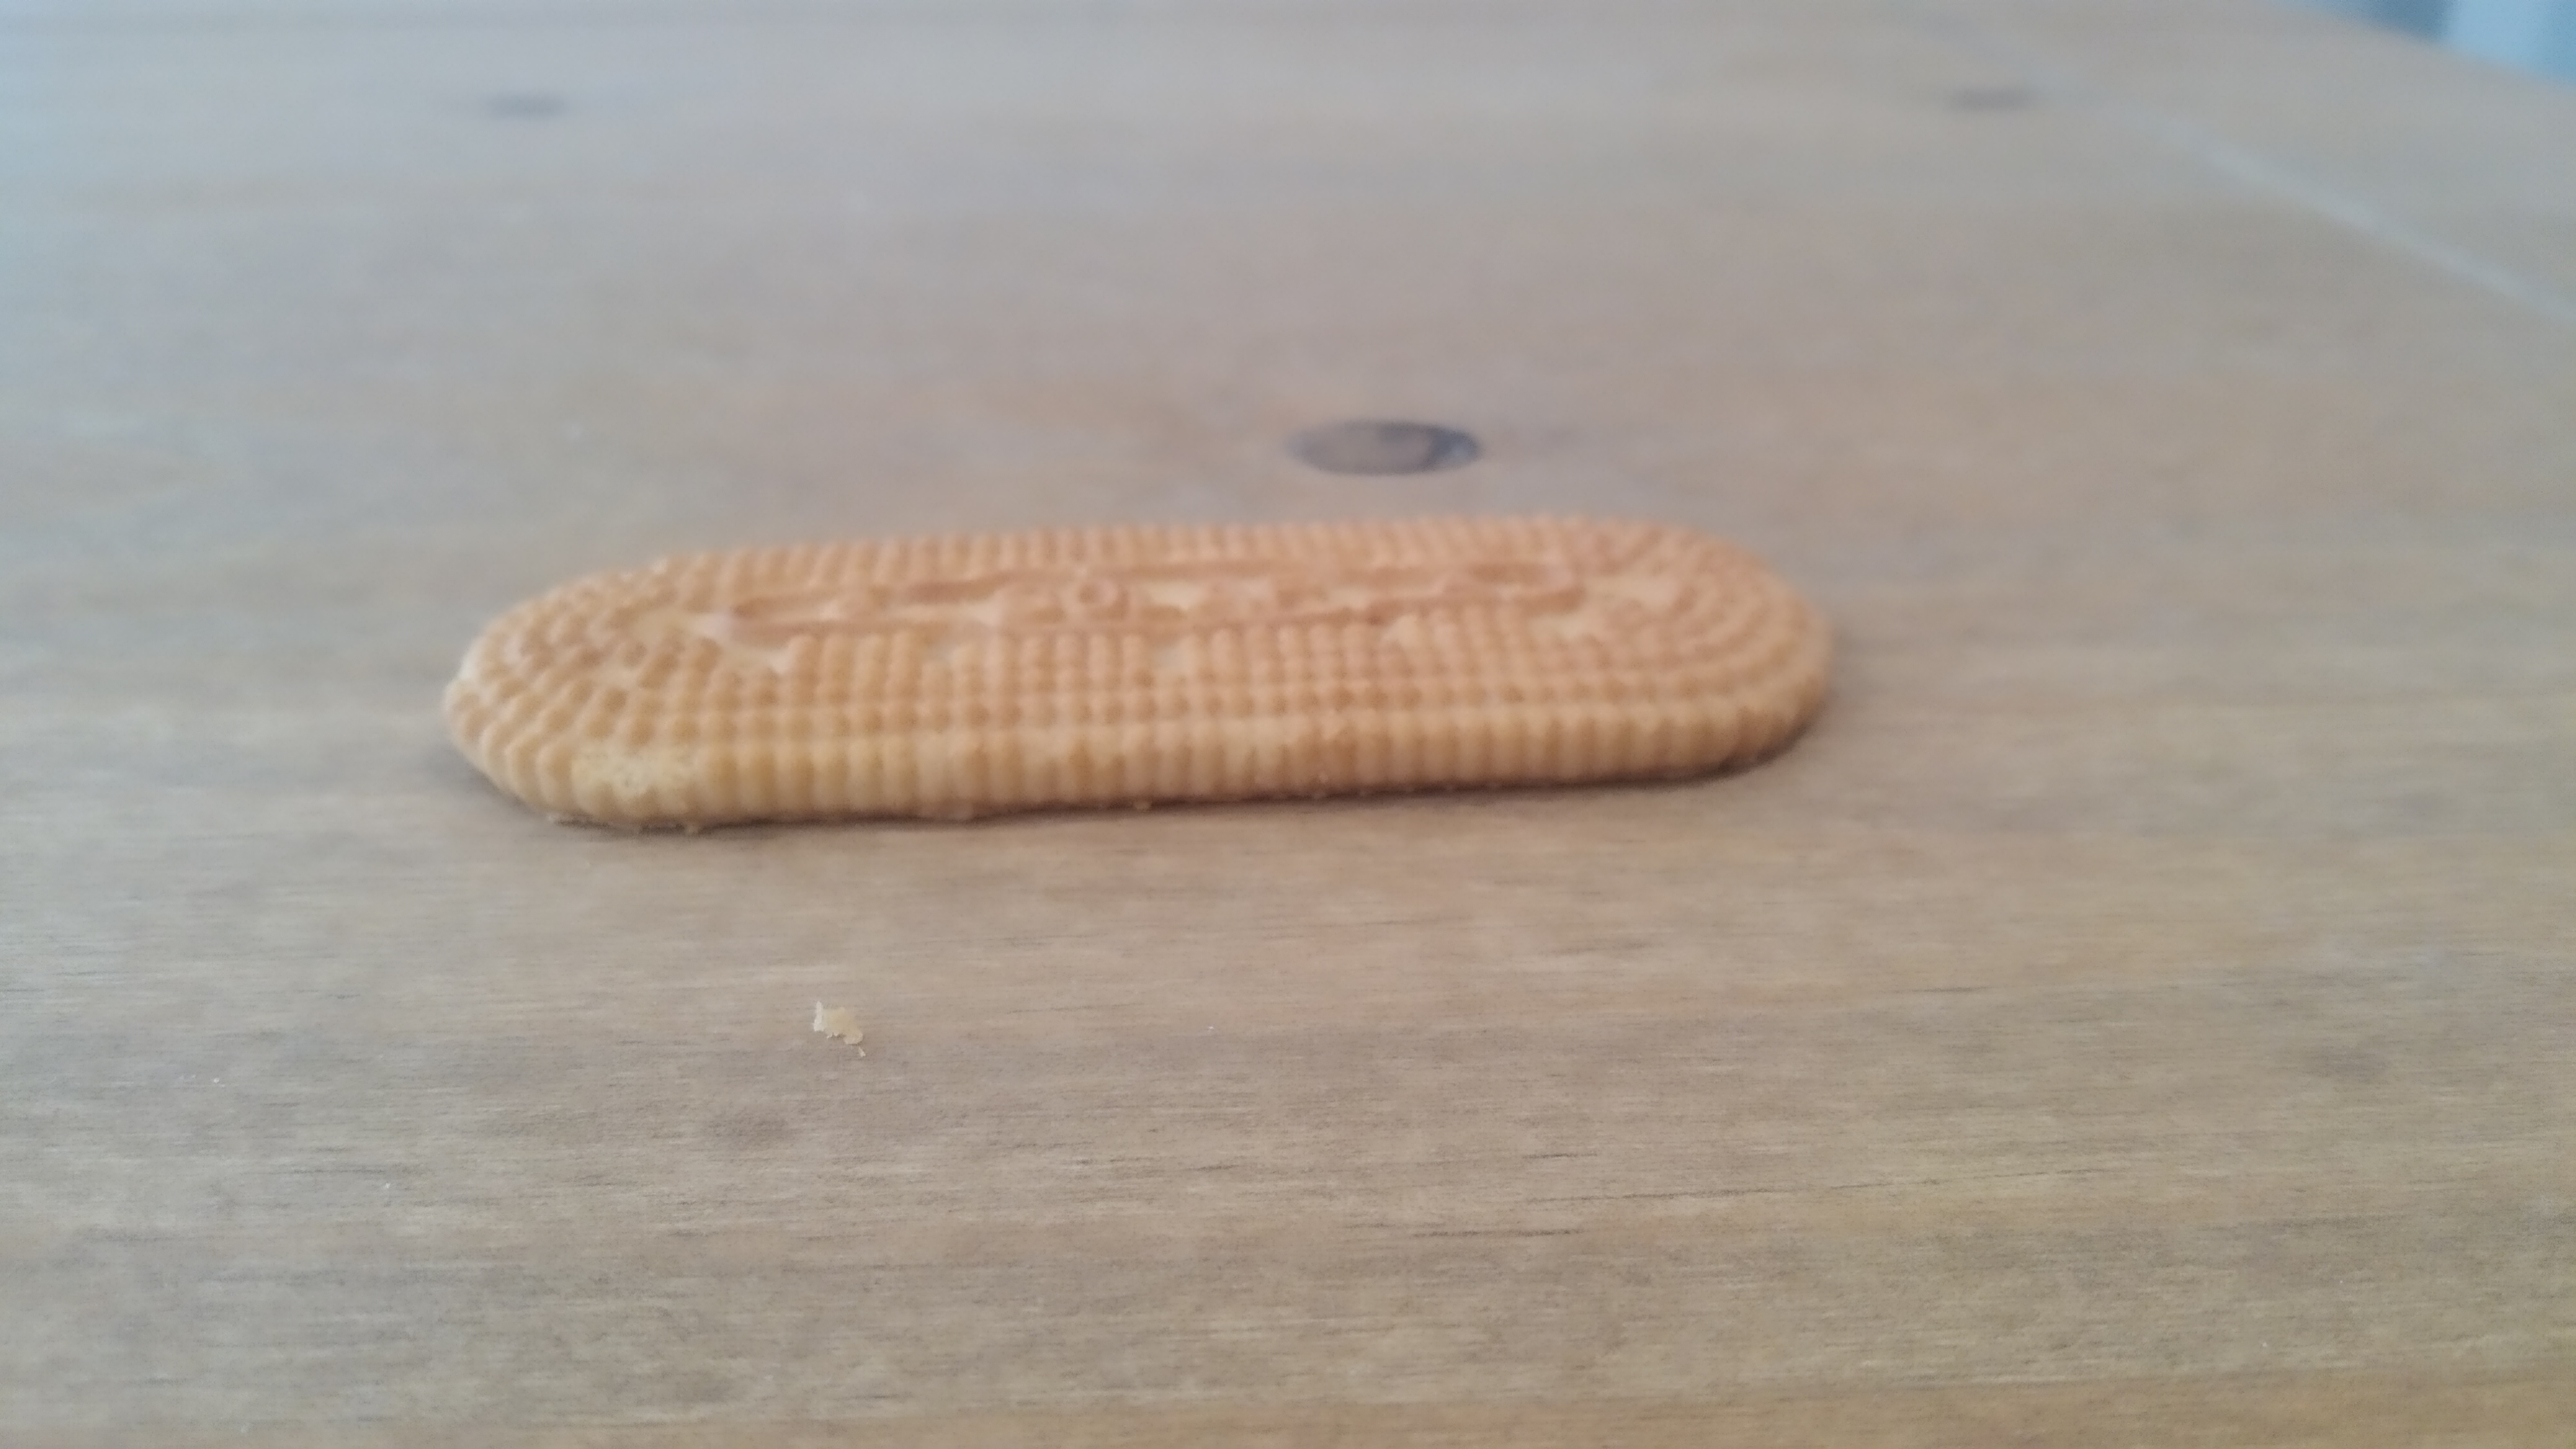solar: (442, 513, 1831, 830)
